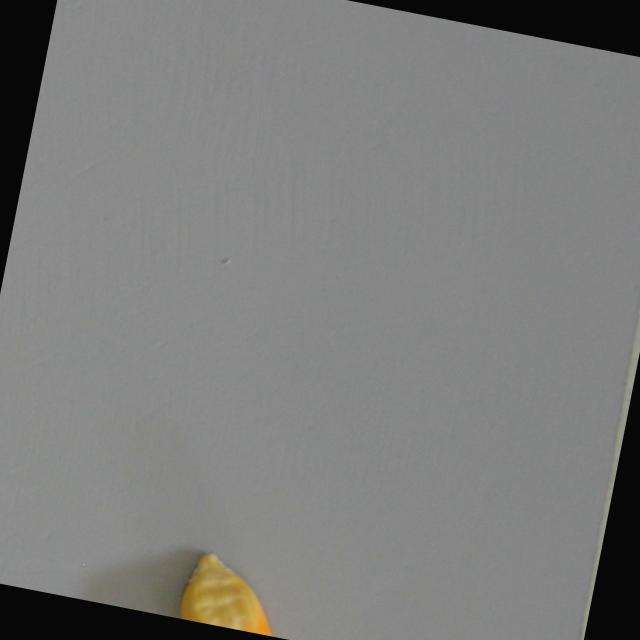entero: (171, 542, 299, 639)
